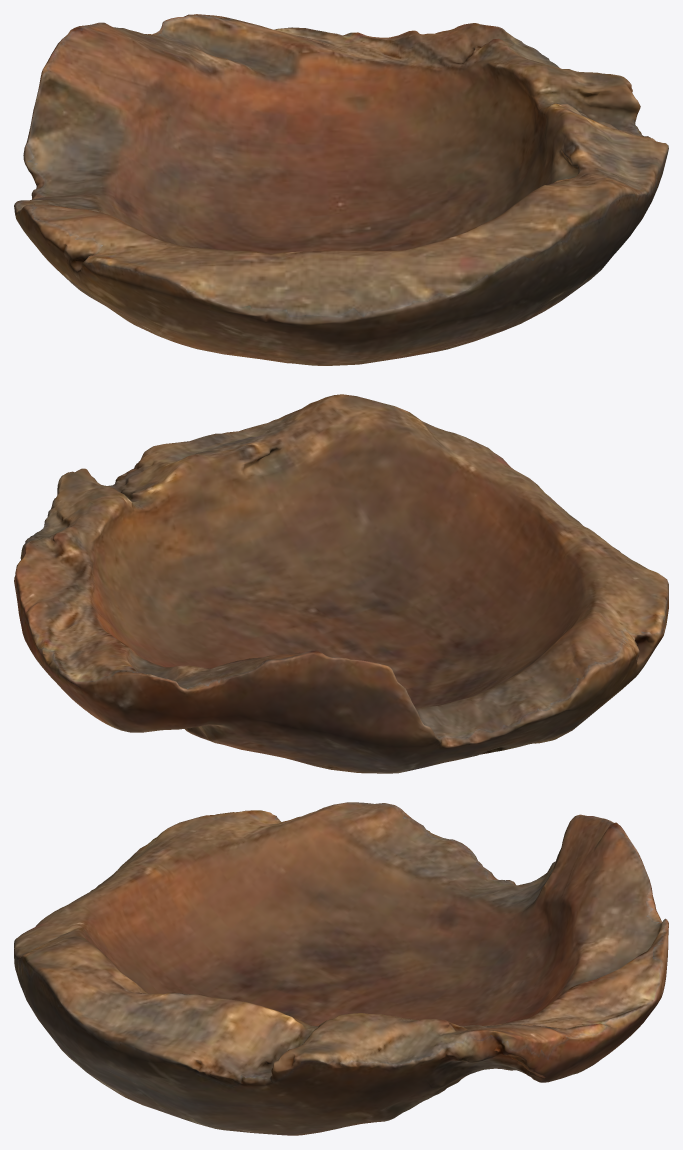
Rendered from wooden_bowl_01.glb.
3 renders of one model, top to bottom at view 1: azimuth 30°, elevation 25°; view 2: azimuth 150°, elevation 25°; view 3: azimuth 270°, elevation 25°, orthographic. The views are drawn at different scales.
Parts seen in each view (by area): view 1: wooden_bowl_01; view 2: wooden_bowl_01; view 3: wooden_bowl_01.
Part boxes in pixels (x1,y1,x2,y2): wooden_bowl_01: (14, 14, 668, 365); wooden_bowl_01: (14, 394, 668, 773); wooden_bowl_01: (14, 802, 668, 1135).
Bounding box in the file's own units: 0.3131 × 0.0937 × 0.3091.
Materials: 1 (1 with a texture image).
